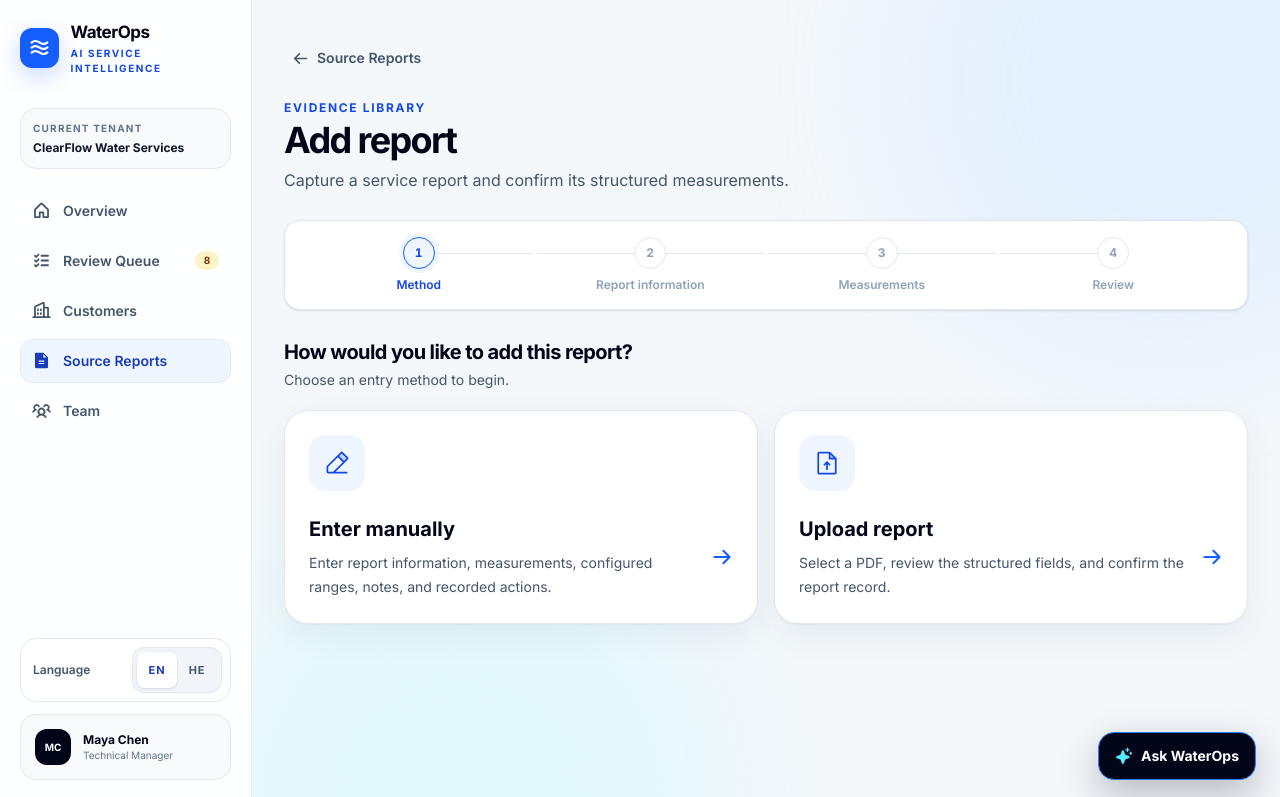
Test case: WaterOps production workspace › guards in-app navigation while report changes are unsaved
What coordinates should you click on to do the following:
click the button "Enter manually"
I would click on:
 (337, 463)
Its box is x1=284 y1=410 x2=758 y2=624.
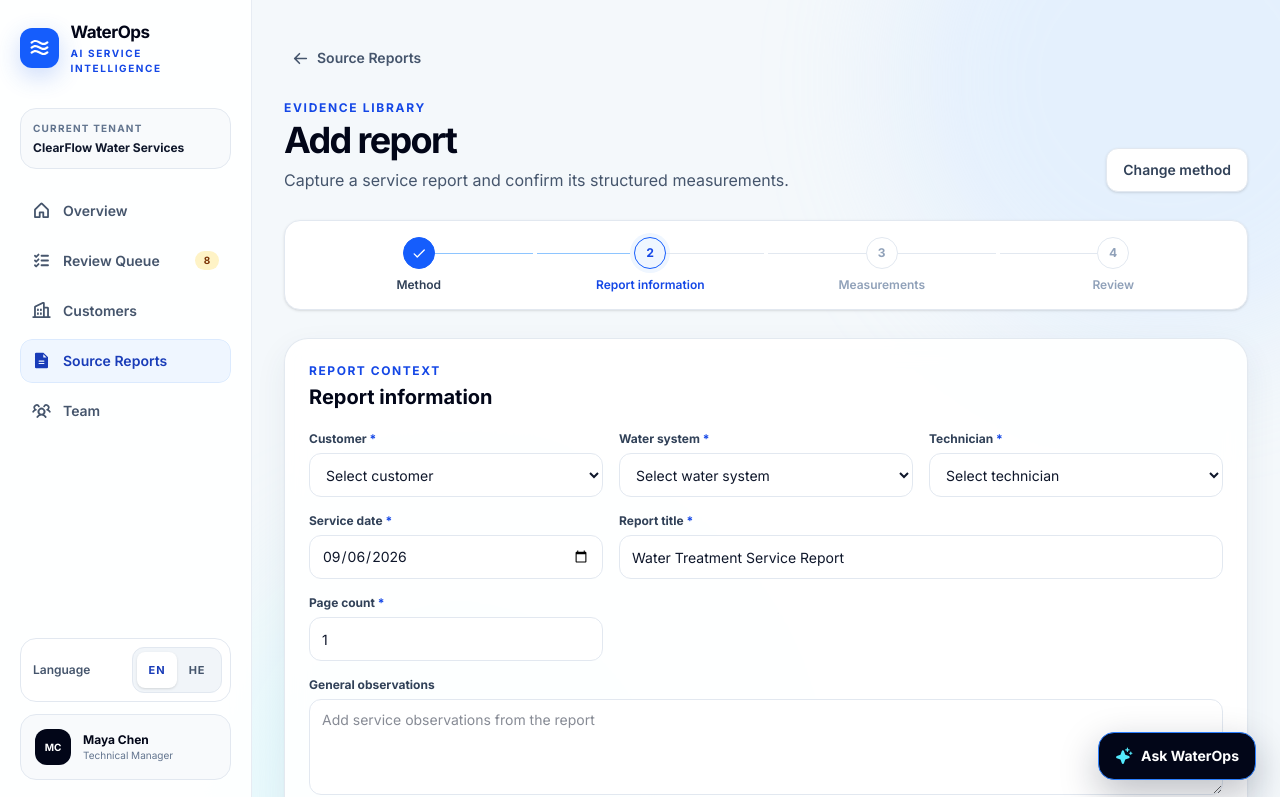
Check: the heading "Report information" is shown, box x1=309 y1=385 x2=493 y2=409
What coordinates should you click on to do the following:
click the link "Overview"
I would click on:
 (80, 210)
Its box is x1=32 y1=201 x2=128 y2=220.
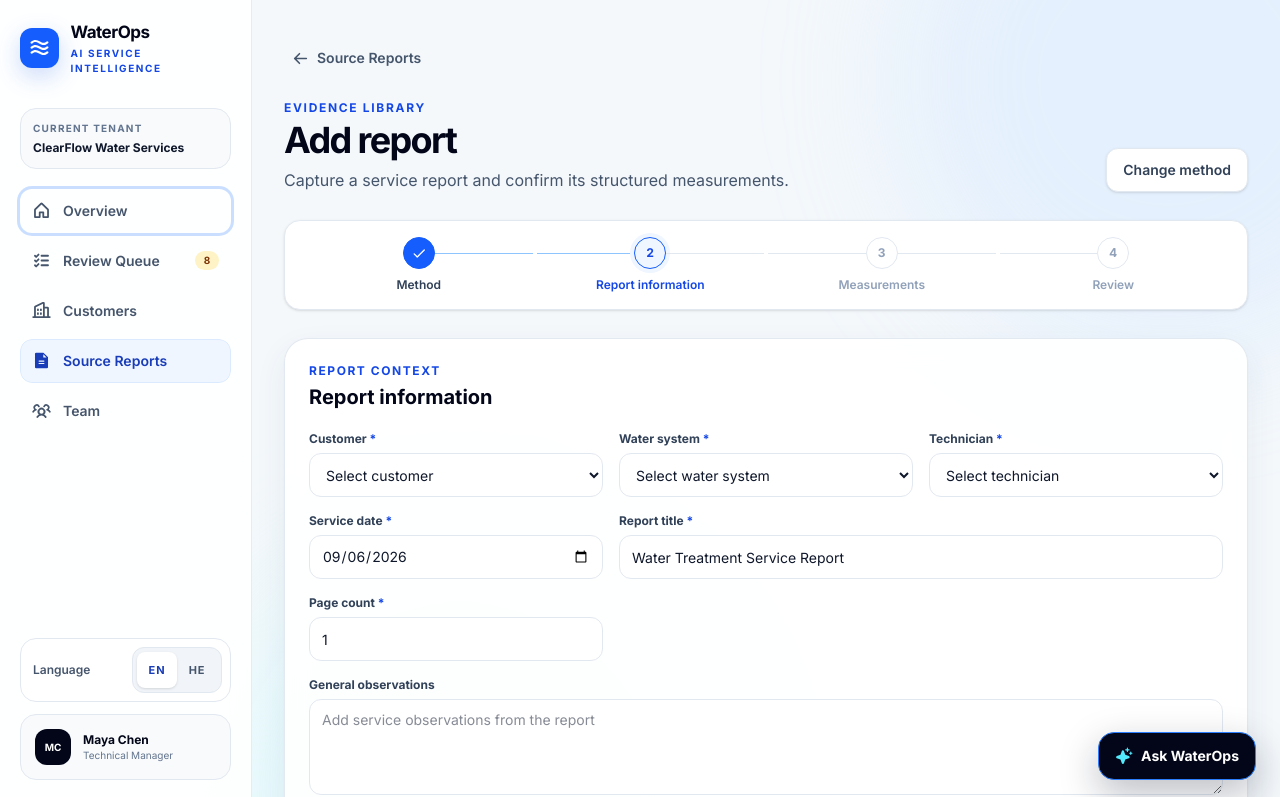
What coordinates should you click on to do the following:
click the link "Overview"
I would click on:
 (126, 210)
Its box is x1=20 y1=188 x2=231 y2=232.
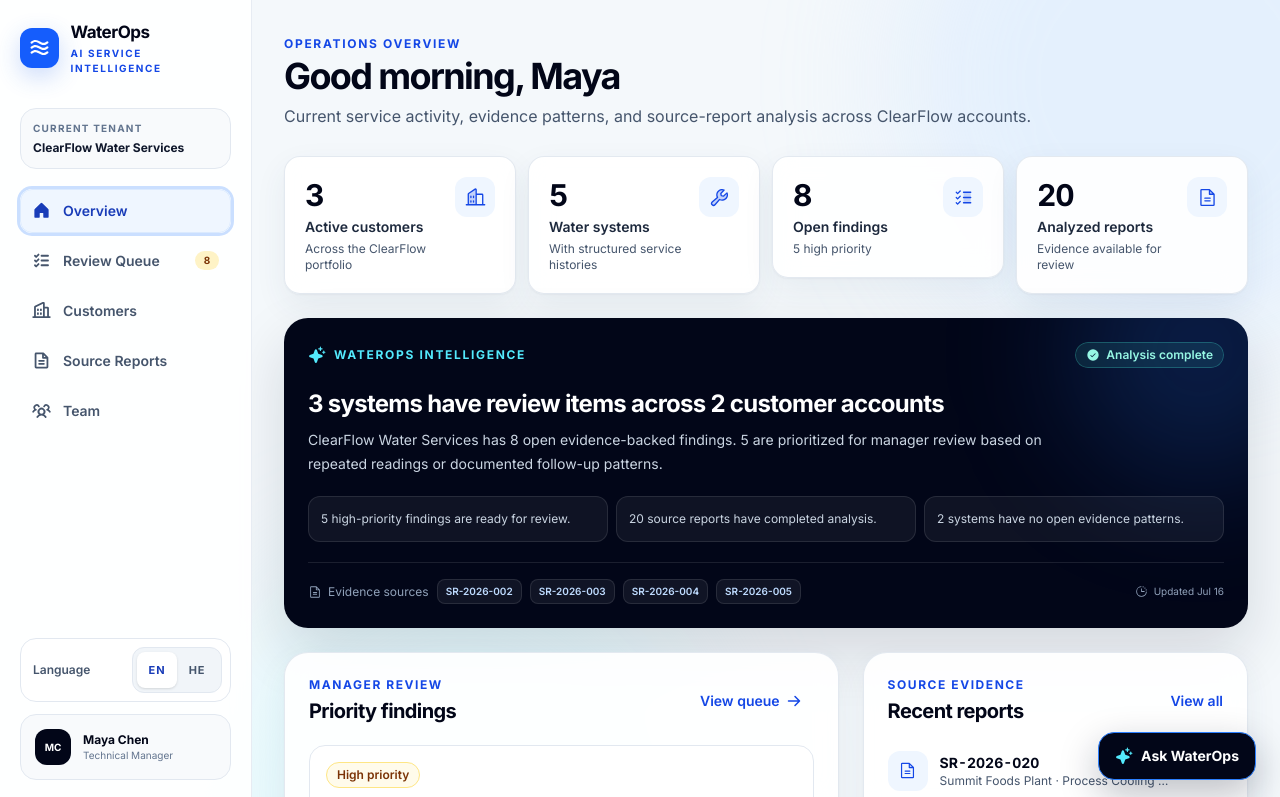
Check: the heading "Good morning, Maya" is shown, box x1=284 y1=54 x2=620 y2=98
